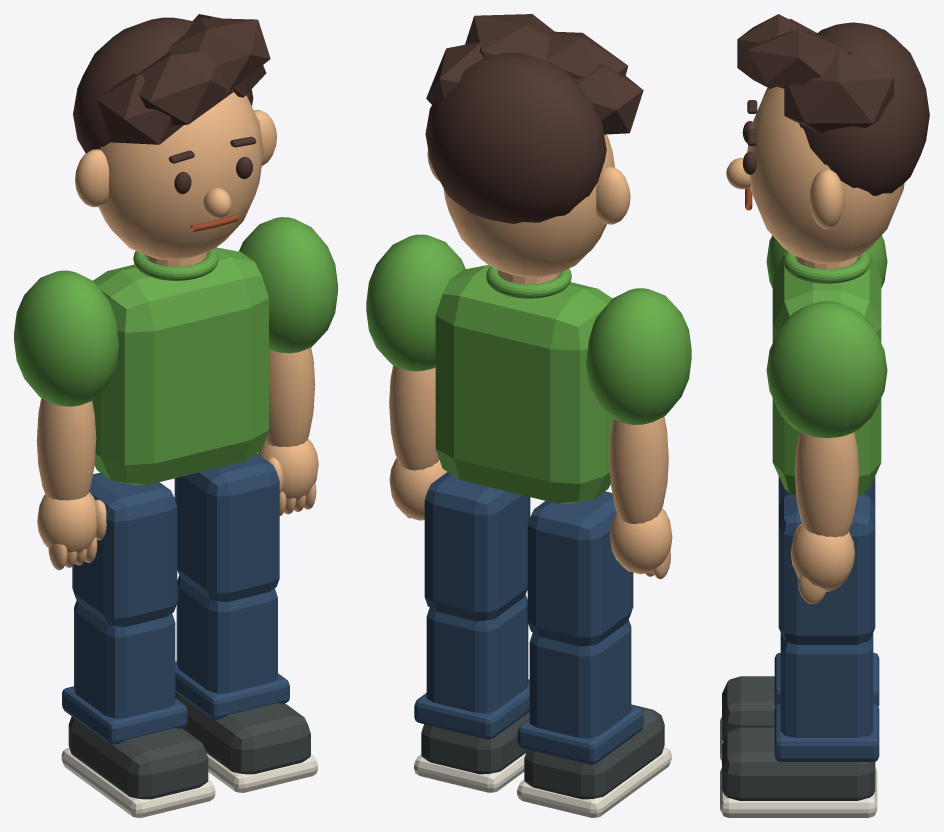
File: student.glb
3 renders of one model, left to right at view 1: azimuth 30°, elevation 25°; view 2: azimuth 150°, elevation 25°; view 3: azimuth 270°, elevation 25°, orthographic. The views are drawn at different scales.
Parts seen in each view (by area): view 1: student_torso, student_head, student_thigh_right, student_thigh_left, student_sleeve, student_shin_left, student_shin_right, student_sleeve.001, student_shoe, student_shoe.001, student_hair_back, student_forearm (+14 smaller); view 2: student_torso, student_hair_back, student_thigh_right, student_thigh_left, student_sleeve, student_shin_left, student_shin_right, student_sleeve.001, student_head, student_shoe, student_forearm, student_forearm.001 (+13 smaller); view 3: student_sleeve.001, student_head, student_hair_back, student_thigh_right, student_shin_right, student_shoe.001, student_torso, student_hair_lock.003, student_forearm.001, student_hair_lock.002, student_trouser_cuff.001, student_hand.001 (+10 smaller).
Part boxes in pixels (x1=…): student_torso: x1=92, y1=247, x2=268, y2=484; student_head: x1=98, y1=92, x2=263, y2=259; student_thigh_right: x1=174, y1=453, x2=279, y2=601; student_thigh_left: x1=72, y1=473, x2=177, y2=626; student_sleeve: x1=14, y1=270, x2=118, y2=406; student_shin_left: x1=74, y1=600, x2=175, y2=718; student_shin_right: x1=176, y1=575, x2=277, y2=693; student_sleeve.001: x1=239, y1=217, x2=337, y2=353; student_shoe: x1=68, y1=716, x2=208, y2=799; student_shoe.001: x1=175, y1=692, x2=310, y2=774; student_hair_back: x1=73, y1=17, x2=253, y2=153; student_forearm: x1=36, y1=398, x2=96, y2=500; student_torso: x1=435, y1=265, x2=612, y2=503; student_hair_back: x1=425, y1=53, x2=606, y2=223; student_thigh_right: x1=424, y1=472, x2=530, y2=621; student_thigh_left: x1=527, y1=491, x2=633, y2=646; student_sleeve: x1=586, y1=288, x2=691, y2=424; student_shin_left: x1=529, y1=619, x2=631, y2=738; student_shin_right: x1=426, y1=594, x2=528, y2=713; student_sleeve.001: x1=366, y1=234, x2=465, y2=371; student_head: x1=443, y1=134, x2=614, y2=277; student_shoe: x1=524, y1=704, x2=664, y2=799; student_forearm: x1=609, y1=417, x2=668, y2=524; student_forearm.001: x1=389, y1=365, x2=439, y2=470; student_sleeve.001: x1=766, y1=301, x2=887, y2=437; student_head: x1=747, y1=86, x2=904, y2=264; student_hair_back: x1=799, y1=22, x2=929, y2=195; student_thigh_right: x1=778, y1=493, x2=875, y2=644; student_shin_right: x1=780, y1=633, x2=873, y2=737; student_shoe.001: x1=722, y1=727, x2=875, y2=800; student_torso: x1=772, y1=250, x2=881, y2=494; student_hair_lock.003: x1=784, y1=49, x2=893, y2=133; student_forearm.001: x1=794, y1=432, x2=859, y2=537; student_hair_lock.002: x1=747, y1=29, x2=850, y2=88; student_trouser_cuff.001: x1=774, y1=703, x2=879, y2=761; student_hand.001: x1=790, y1=524, x2=855, y2=591.
Bounding box in the file's own units: 0.9 × 2.06 × 0.52.
